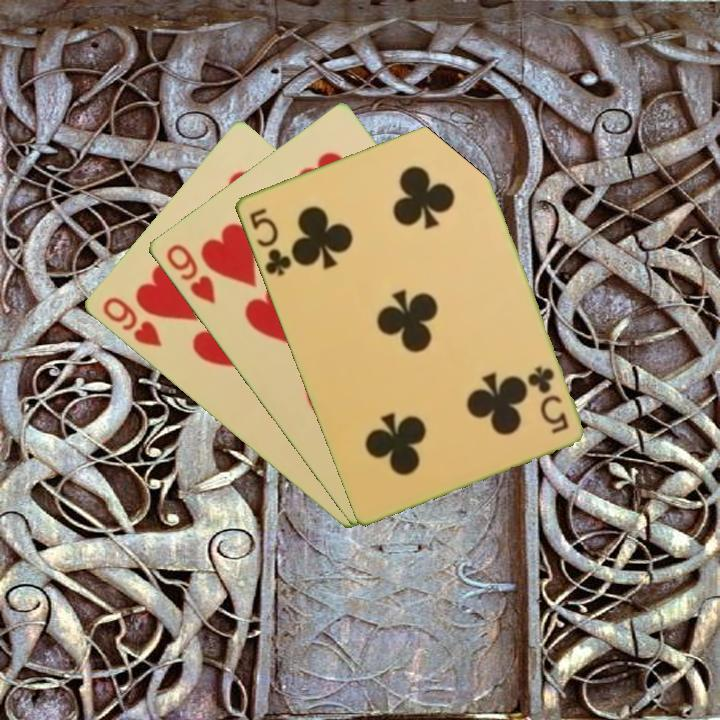5c: (245, 204, 294, 279), (524, 362, 571, 437)
9h: (98, 293, 164, 350), (162, 240, 218, 307)
